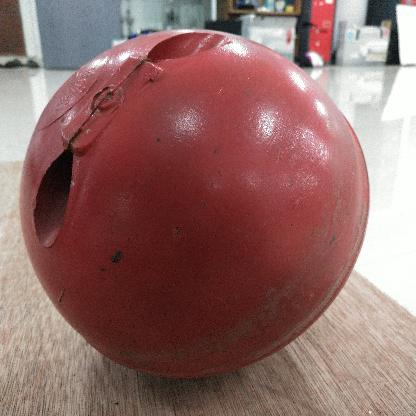red_buoy: (18, 26, 370, 382)
